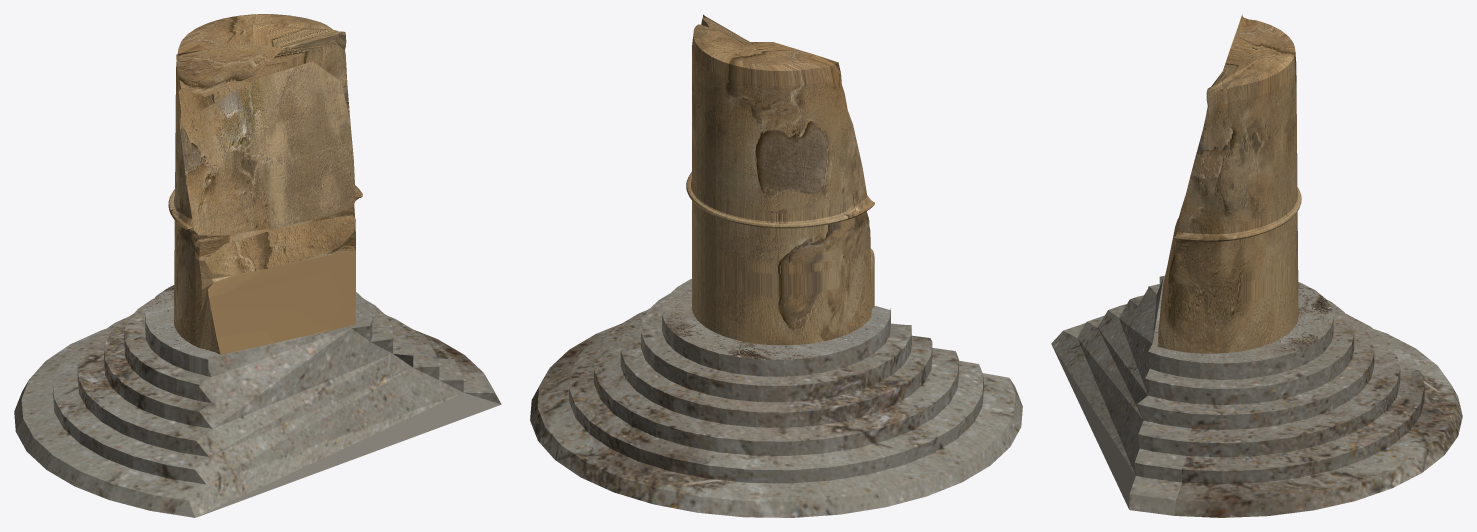
File: dharaharaSmall.obj
3 views of the same model, side by side, from view 1: azimuth 30°, elevation 25°; view 2: azimuth 150°, elevation 25°; view 3: azimuth 270°, elevation 25° (orthographic). The views are drawn at different scales.
Parts seen in each view (by area): view 1: Base.001_Cylinder.007, Cylinder_Cylinder.006; view 2: Base.001_Cylinder.007, Cylinder_Cylinder.006; view 3: Base.001_Cylinder.007, Cylinder_Cylinder.006.
Part boxes in pixels (x1,y1,x2,y2): Base.001_Cylinder.007: [14, 285, 501, 517]; Cylinder_Cylinder.006: [168, 14, 362, 354]; Base.001_Cylinder.007: [530, 279, 1022, 517]; Cylinder_Cylinder.006: [686, 14, 874, 345]; Base.001_Cylinder.007: [1051, 275, 1462, 517]; Cylinder_Cylinder.006: [1157, 14, 1301, 353].
Size of the model in its own units: 1 by 0.8459 by 0.8569.
2 materials, 2 textured.
